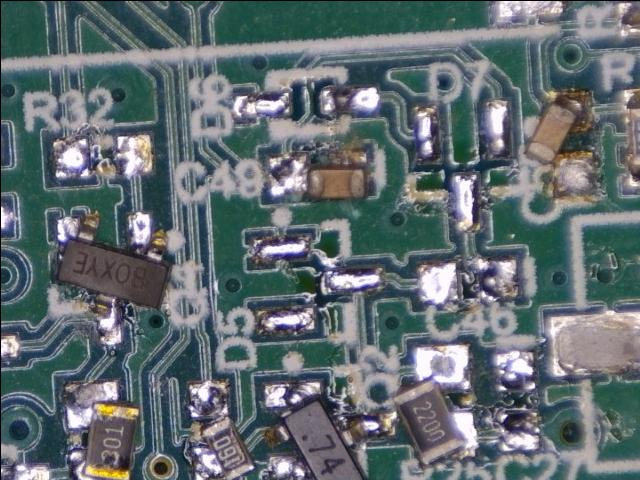Incorrect_installation: (56, 210, 173, 346), (262, 382, 394, 480), (391, 343, 476, 467), (525, 92, 597, 198), (65, 380, 140, 480), (190, 382, 255, 480), (263, 149, 370, 199)
